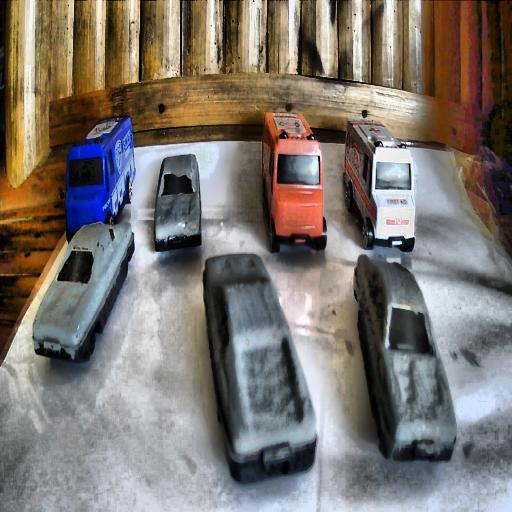ambulance: (343, 117, 415, 252)
fire_truck: (261, 109, 327, 253)
normal_car: (202, 252, 314, 482), (353, 254, 455, 462), (31, 220, 135, 364), (153, 151, 202, 252)
police car: (65, 116, 135, 242)
